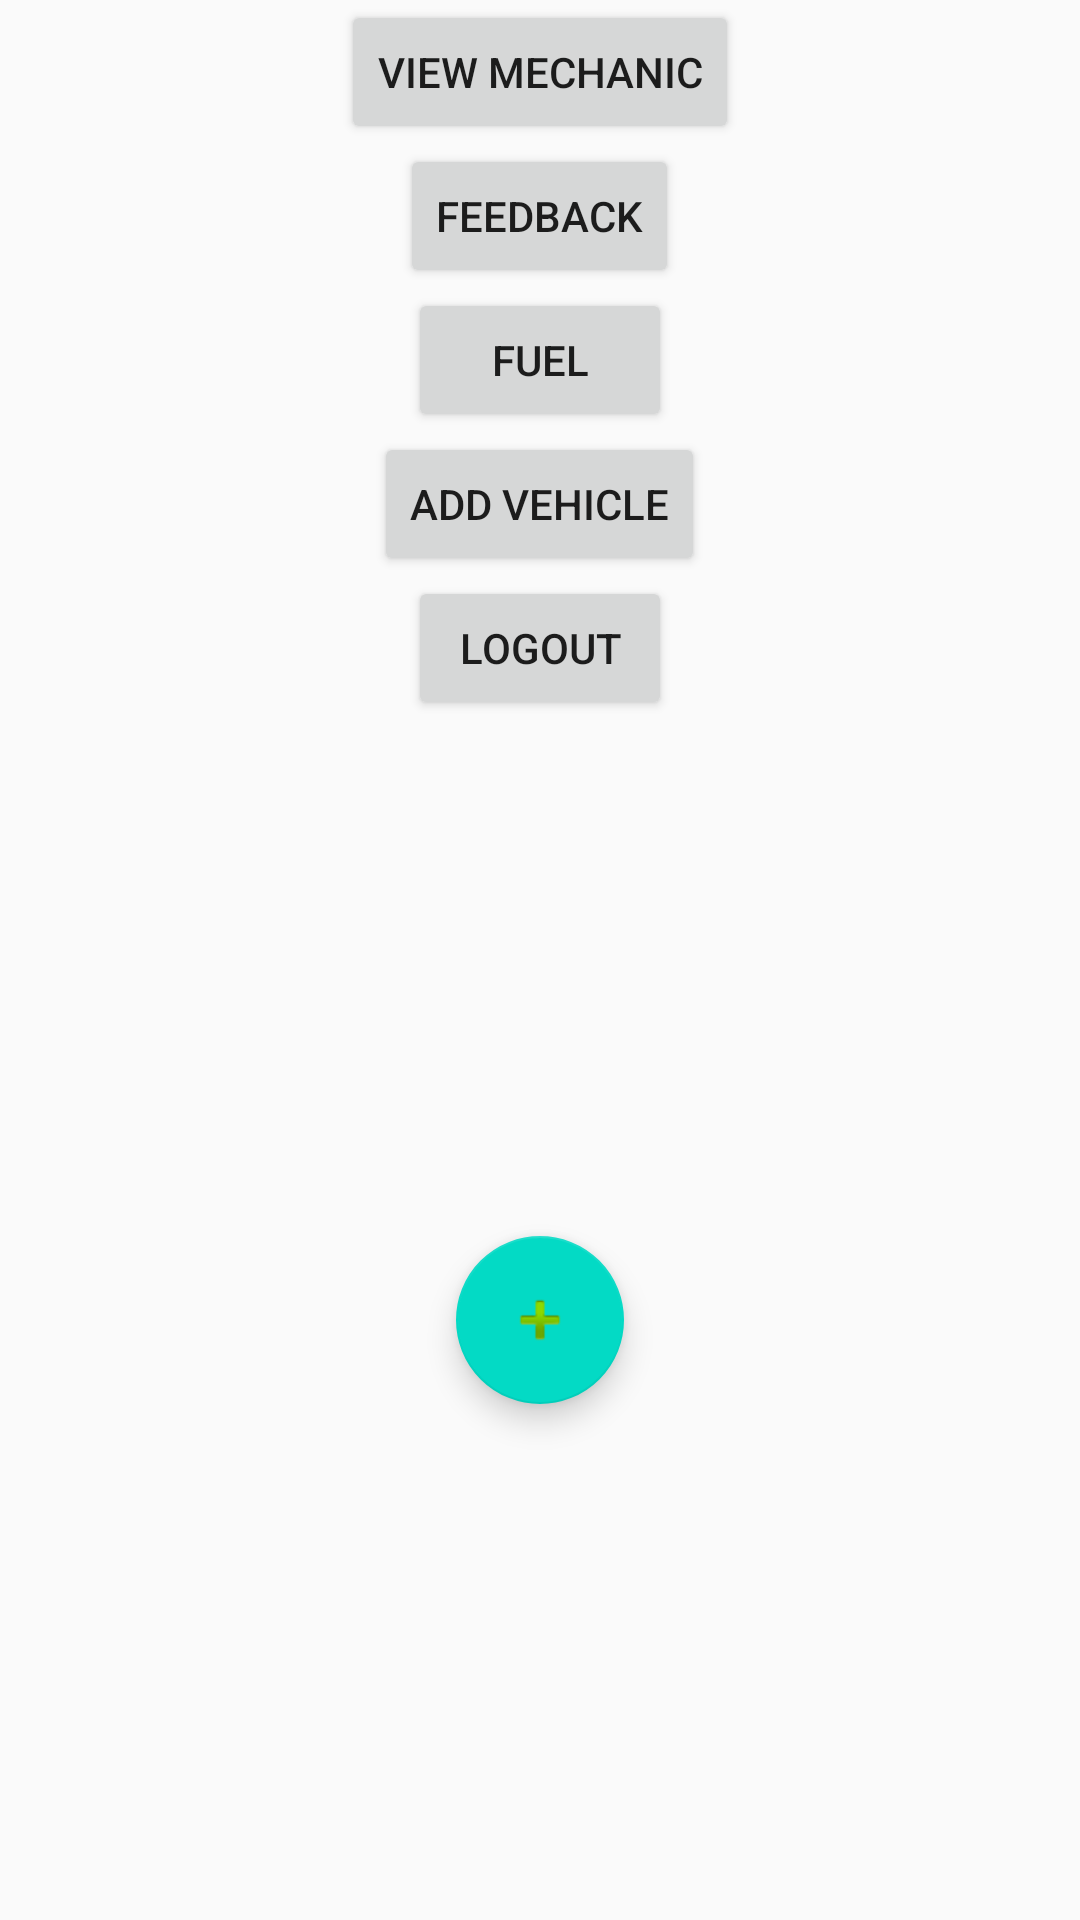

Screen size 1080×1920. Icon name, then its box in pixels as detection(x1, y1, x2, y2):
add: detection(456, 1236, 624, 1404)
